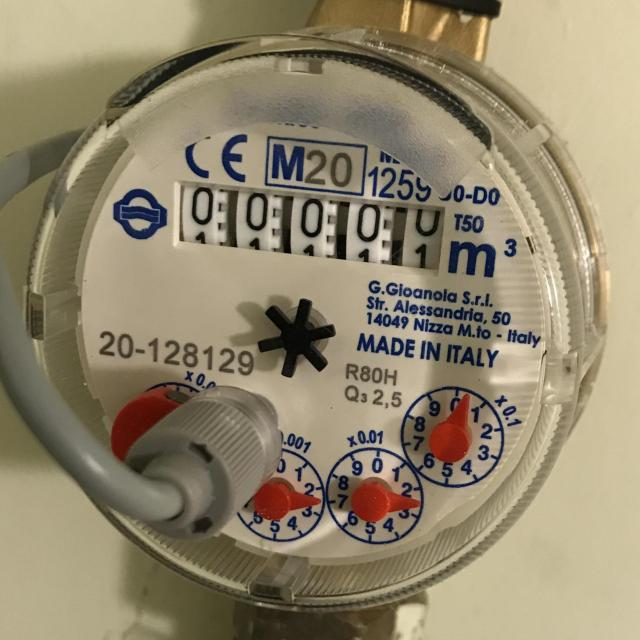gaz_meter: (33, 40, 581, 609)
indication: (176, 182, 444, 270)
